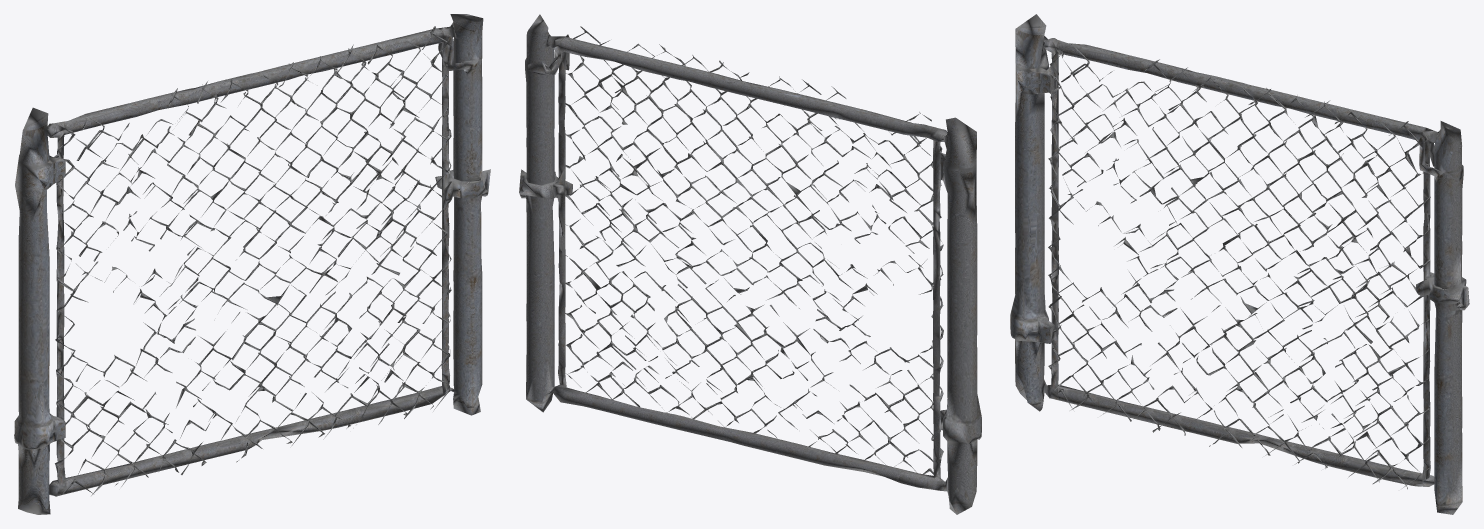
File: fence_gate.glb
3 renders of one model, left to right at view 1: azimuth 30°, elevation 25°; view 2: azimuth 150°, elevation 25°; view 3: azimuth 330°, elevation 25°, orthographic. The views are drawn at different scales.
Parts seen in each view (by area): view 1: fence_gate; view 2: fence_gate; view 3: fence_gate.
Boxes of the visible parts, x1=… form: fence_gate: x1=14, y1=14, x2=490, y2=514; fence_gate: x1=519, y1=14, x2=981, y2=514; fence_gate: x1=1010, y1=14, x2=1469, y2=514.
Bounding box in the file's own units: 189 × 155 × 13.98.
1 material, 1 textured.
